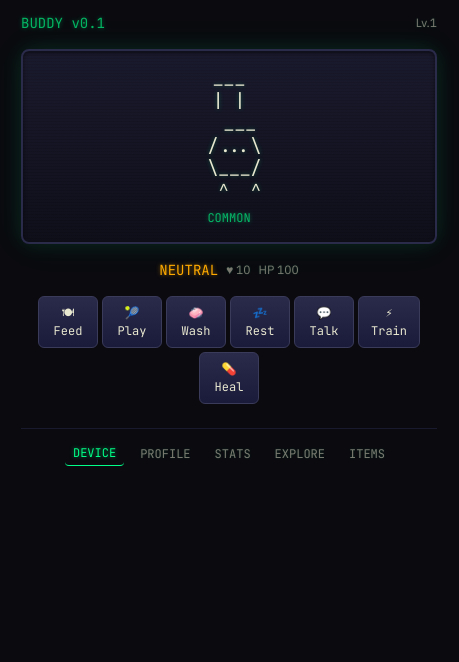
Test: MainDevice › renders the profile tab content
The image size is (459, 662).
Click the button "PROFILE".
click(165, 454)  # box [132, 441, 199, 466]
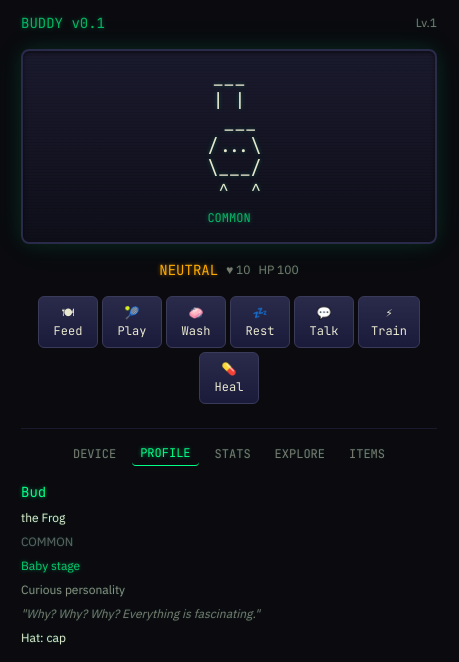
Result: the text "Bud" is shown at [21, 483, 46, 501]
